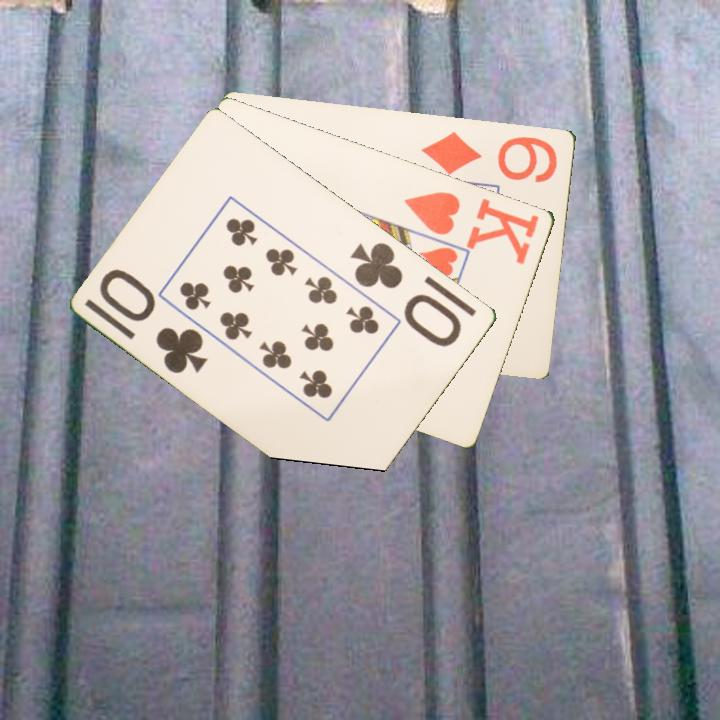10c: (347, 238, 466, 350), (96, 266, 212, 377)
6d: (418, 127, 561, 186)
Kh: (401, 187, 543, 267)
